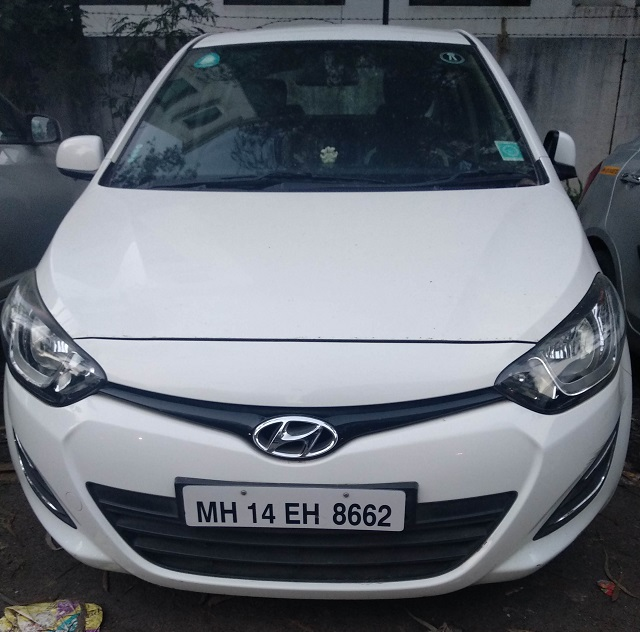licenseplate: (176, 478, 409, 537)
